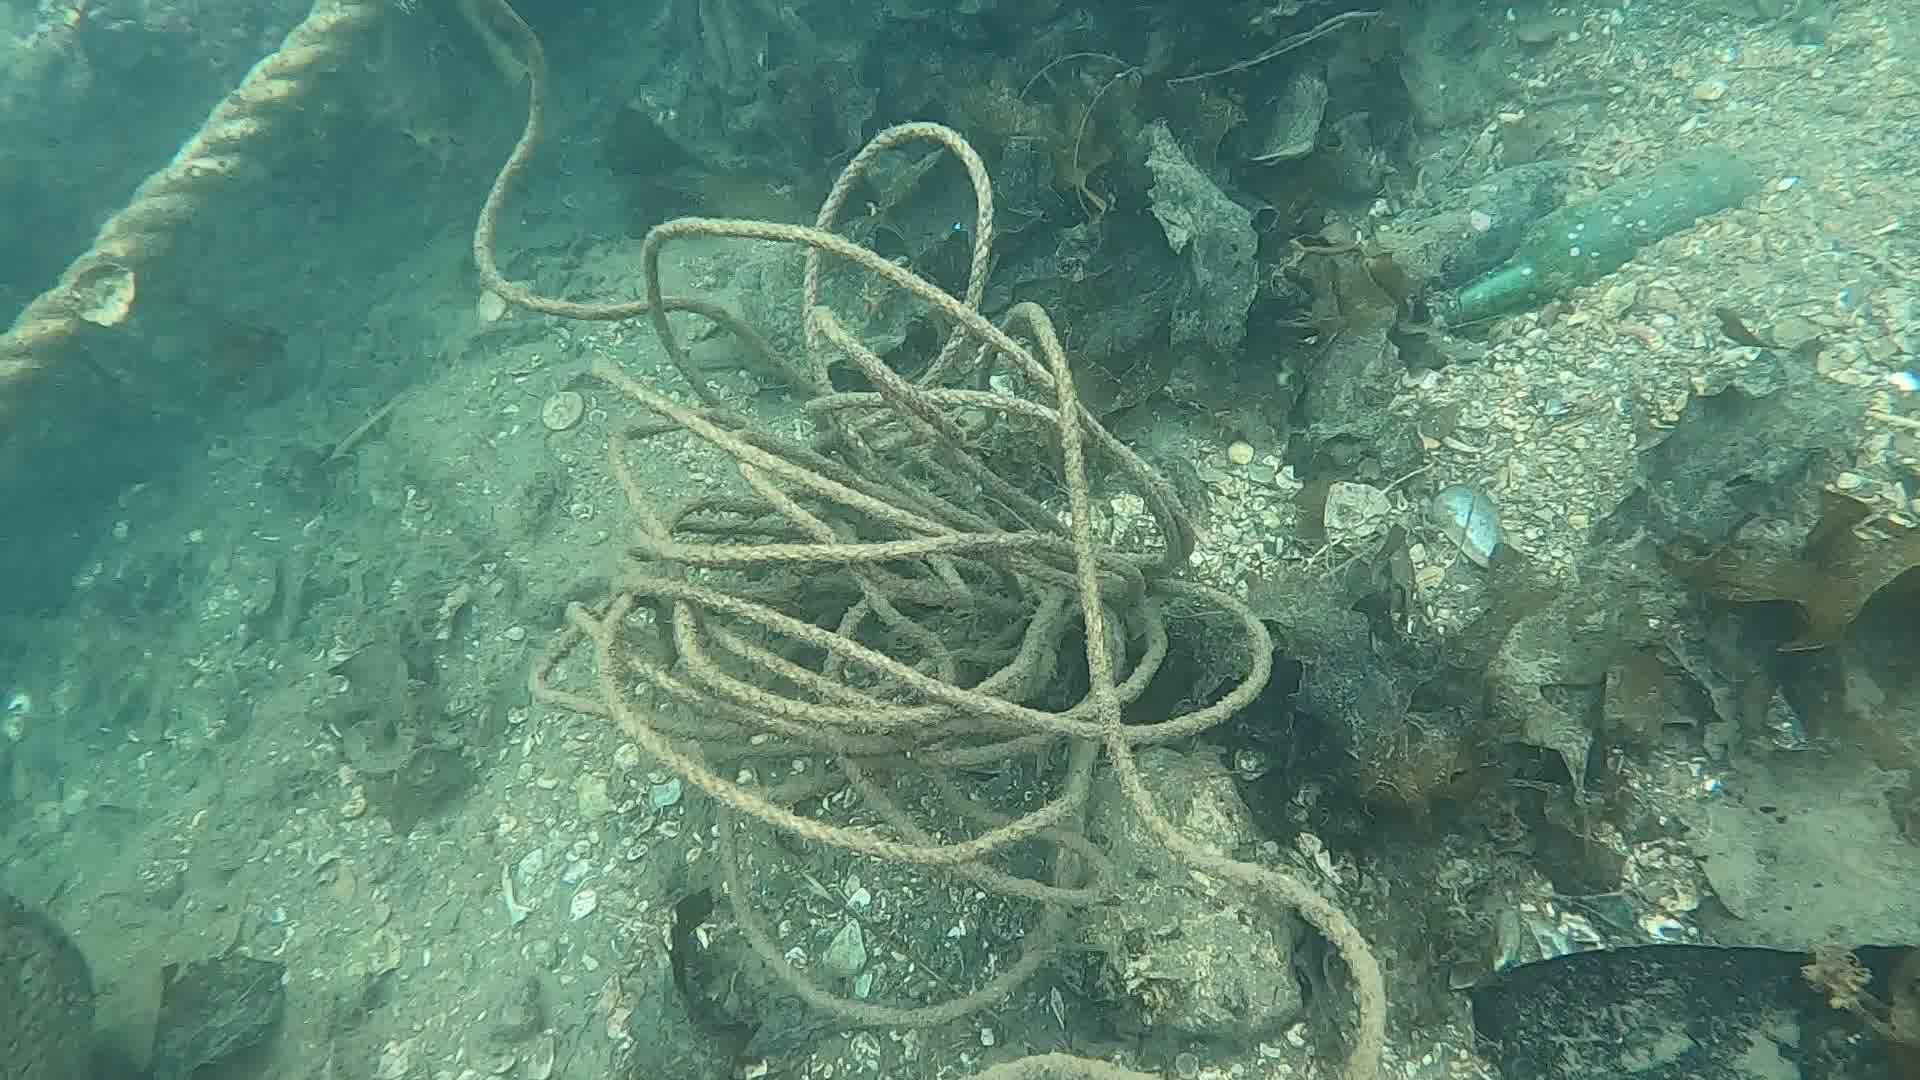bundle of ropes: (467, 0, 1385, 1080)
rope: (0, 0, 407, 400)
